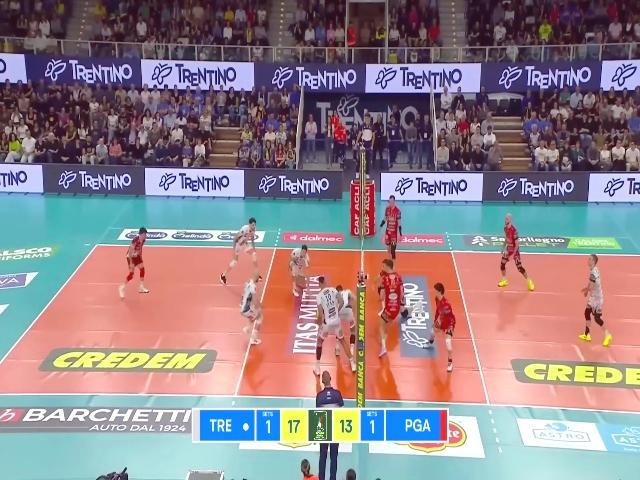volleyball court: (1, 242, 638, 411)
